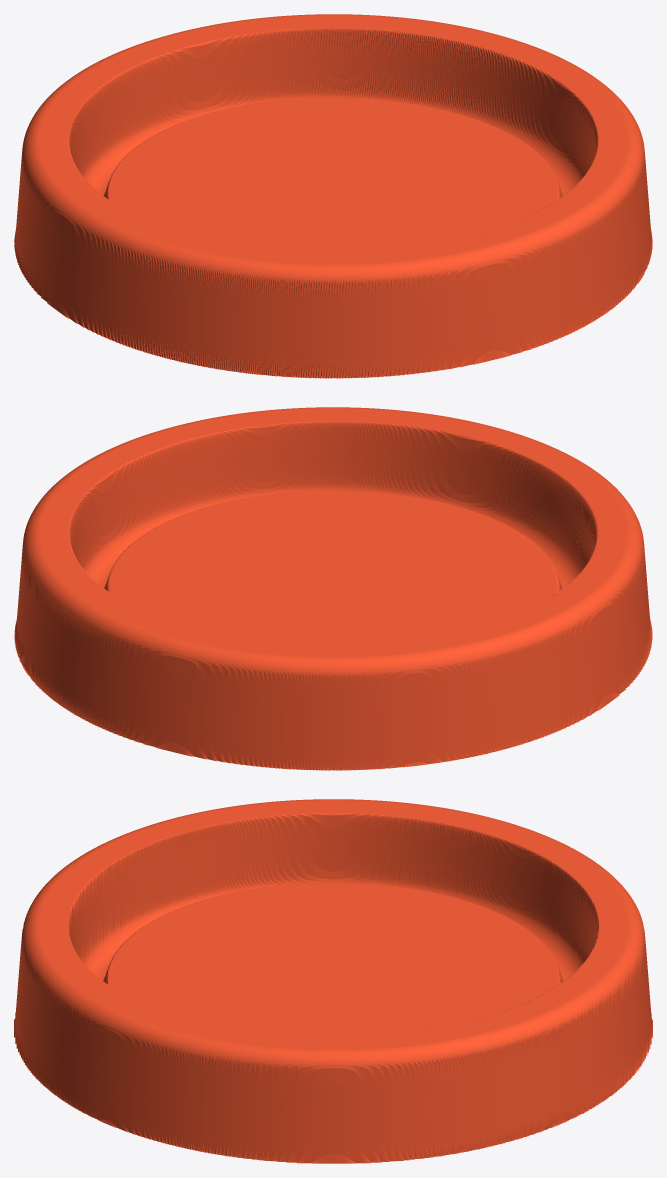
The model's file is mold.glb.
3 renders of one model, top to bottom at view 1: azimuth 30°, elevation 25°; view 2: azimuth 150°, elevation 25°; view 3: azimuth 270°, elevation 25°, orthographic.
Visible parts, largest first — view 1: geometry_0; view 2: geometry_0; view 3: geometry_0.
Boxes of the visible parts, <box> form: geometry_0: <box>14,14,652,378</box>; geometry_0: <box>14,407,652,770</box>; geometry_0: <box>14,799,652,1163</box>.
Bounding box in the file's own units: 0.0924 × 0.0165 × 0.0924.
